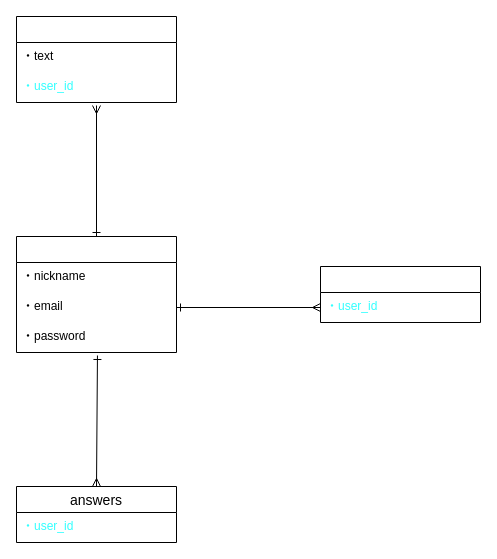
Some shapes in this 497 by 559 pixel diagram are drawn without their labels. The box of each missing label's shape, as (x1, y1, x2, y2) in pixels:
comments: (16, 16, 176, 102)
users: (16, 236, 176, 352)
